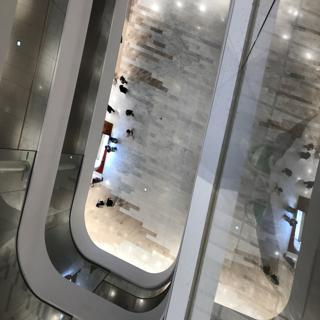person: (104, 192, 124, 215), (115, 75, 131, 97), (121, 126, 142, 142), (122, 104, 139, 120), (91, 195, 106, 209)
